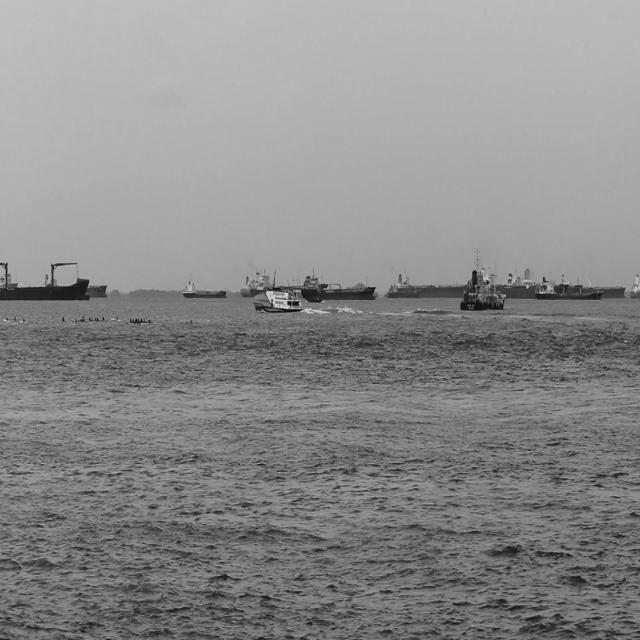kayak: (83, 312, 107, 325), (127, 314, 153, 325), (305, 293, 324, 305), (186, 314, 200, 327), (7, 312, 18, 324), (61, 313, 72, 324), (112, 313, 122, 325), (20, 315, 30, 326), (72, 315, 82, 325)
ship: (384, 263, 530, 297), (0, 258, 92, 300), (521, 262, 628, 296), (459, 244, 507, 312), (301, 266, 377, 301), (242, 260, 304, 298), (534, 271, 603, 299), (252, 284, 308, 314), (43, 270, 108, 294), (182, 269, 230, 299), (0, 268, 22, 289)
